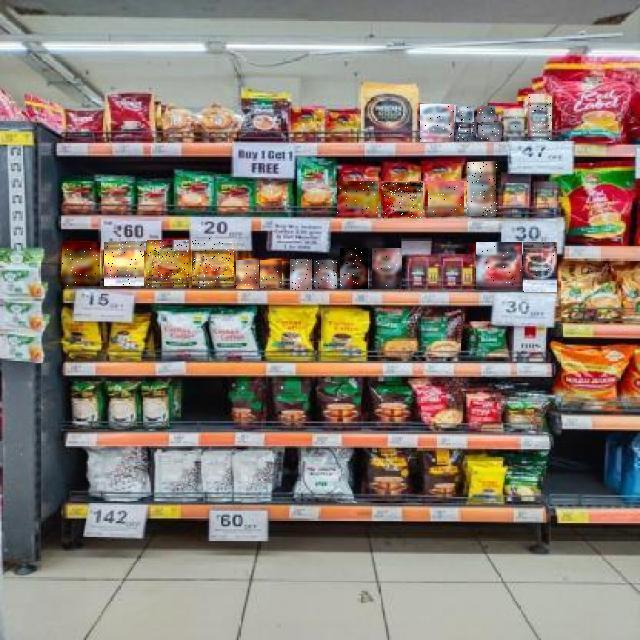Coffee: (476, 242, 522, 290), (192, 238, 234, 288), (146, 240, 189, 288), (105, 243, 145, 287), (523, 242, 557, 292), (62, 243, 100, 287), (468, 162, 498, 216), (337, 181, 378, 217), (383, 182, 423, 218), (420, 104, 454, 142), (372, 248, 402, 289), (428, 182, 464, 216), (341, 248, 369, 289), (528, 94, 552, 140), (290, 259, 312, 290), (236, 260, 259, 289), (314, 260, 337, 288), (504, 109, 524, 140), (261, 260, 283, 288), (478, 126, 502, 140), (458, 124, 476, 141), (457, 107, 475, 123), (477, 107, 495, 123)
